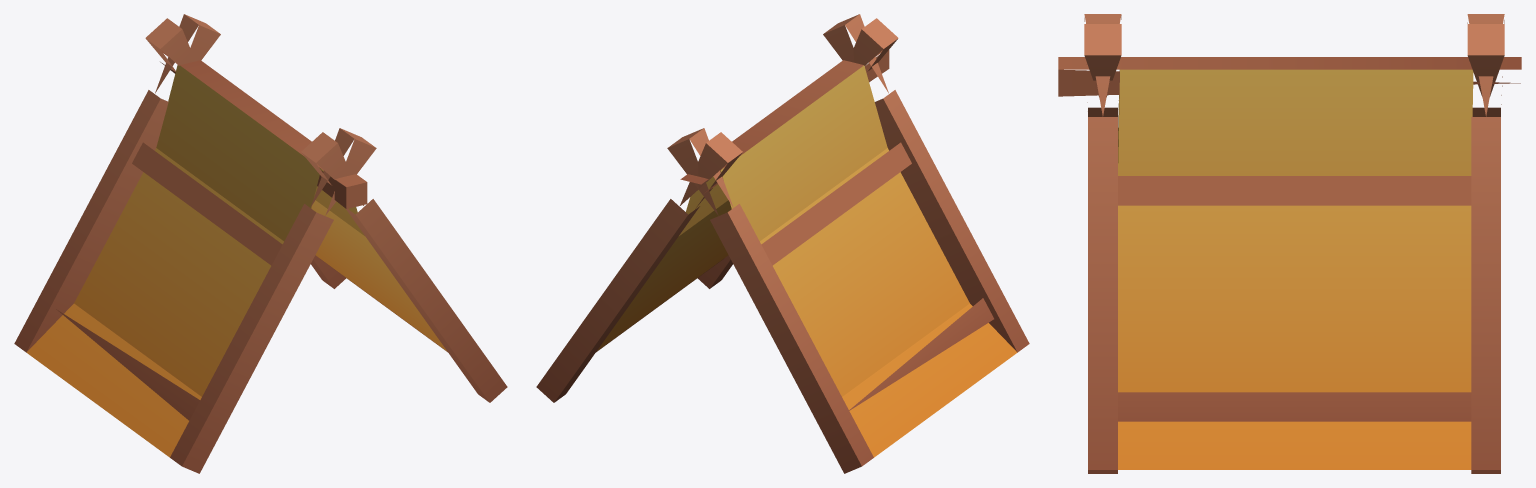
File: tent-two-person.lod.glb
3 renders of one model, left to right at view 1: azimuth 30°, elevation 25°; view 2: azimuth 150°, elevation 25°; view 3: azimuth 270°, elevation 25°, orthographic. The views are drawn at different scales.
Visible parts, largest first — view 1: m; view 2: m; view 3: m.
Boxes of the visible parts, <box> form: m: <box>14,14,507,473</box>; m: <box>536,14,1029,473</box>; m: <box>1058,14,1521,473</box>.
Size of the model in its own units: 0.9001 by 0.7886 by 0.9004.
